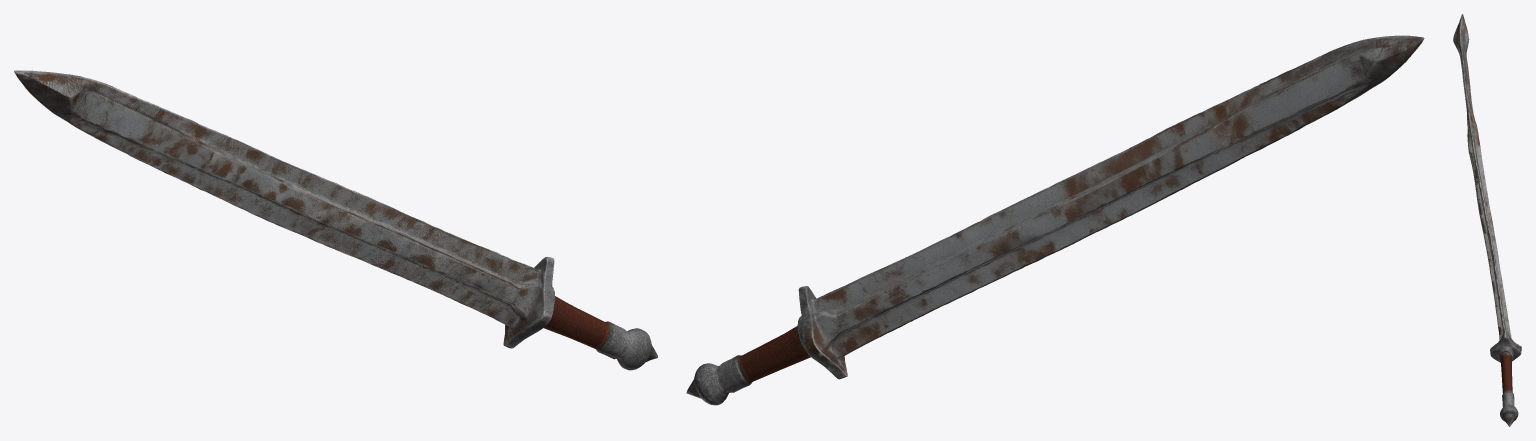
File: sword-1.glb
3 views of the same model, side by side, from view 1: azimuth 30°, elevation 25°; view 2: azimuth 150°, elevation 25°; view 3: azimuth 270°, elevation 25° (orthographic). The views are drawn at different scales.
Parts seen in each view (by area): view 1: Mesh_0; view 2: Mesh_0; view 3: Mesh_0.
Part boxes in pixels (box(x1,y1,x2,y2)): Mesh_0: box(14, 70, 657, 370); Mesh_0: box(686, 35, 1424, 405); Mesh_0: box(1453, 14, 1521, 426).
Size of the model in its own units: 1.89 by 1.29 by 0.3256.
1 material, 1 textured.
